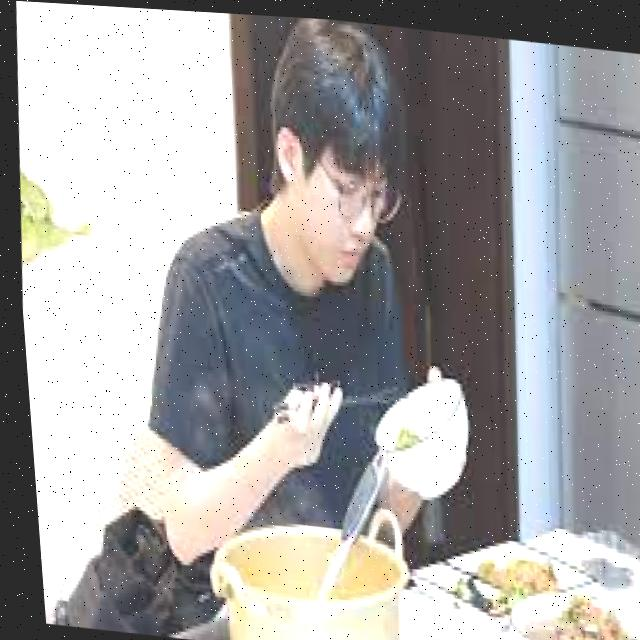eating-person: (106, 5, 486, 599)
